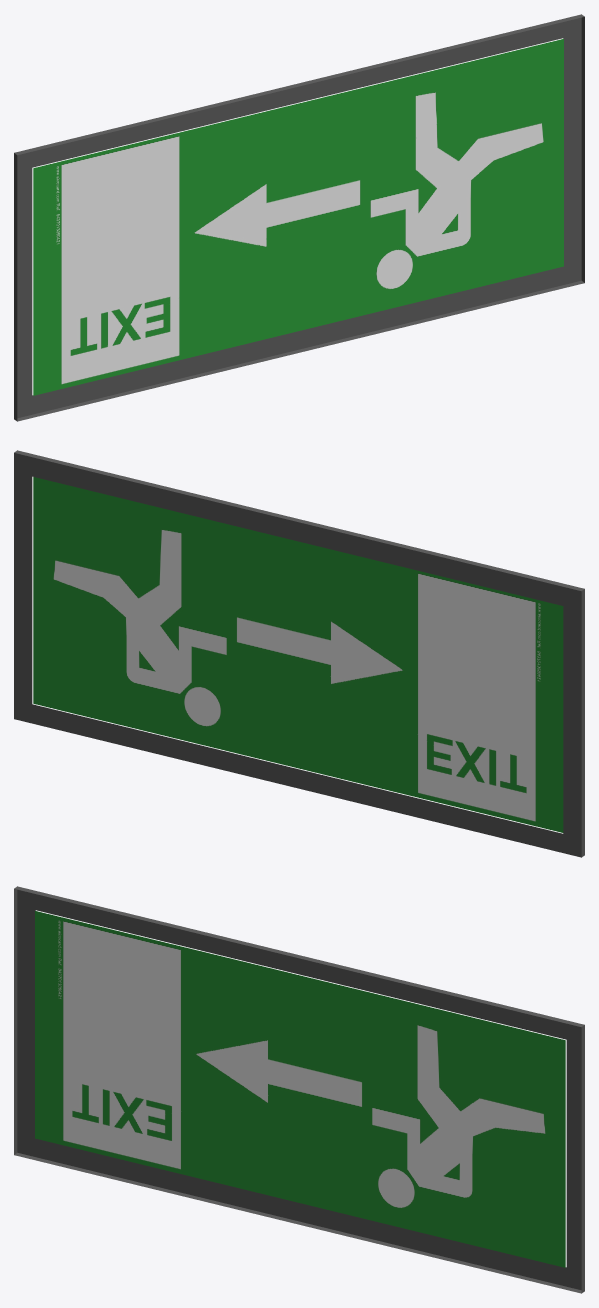
The model's file is EXITcartel.fbx.
3 views of the same model, one above another, from view 1: azimuth 30°, elevation 25°; view 2: azimuth 150°, elevation 25°; view 3: azimuth 330°, elevation 25° (orthographic).
Parts seen in each view (by area): view 1: ExitCARTEL; view 2: ExitCARTEL; view 3: ExitCARTEL.
Part boxes in pixels (left/top/right/bottom): ExitCARTEL: left=14, top=14, right=584, bottom=421; ExitCARTEL: left=14, top=450, right=584, bottom=857; ExitCARTEL: left=14, top=886, right=584, bottom=1293.
Size of the model in its own units: 1791 by 803 by 18.17.
